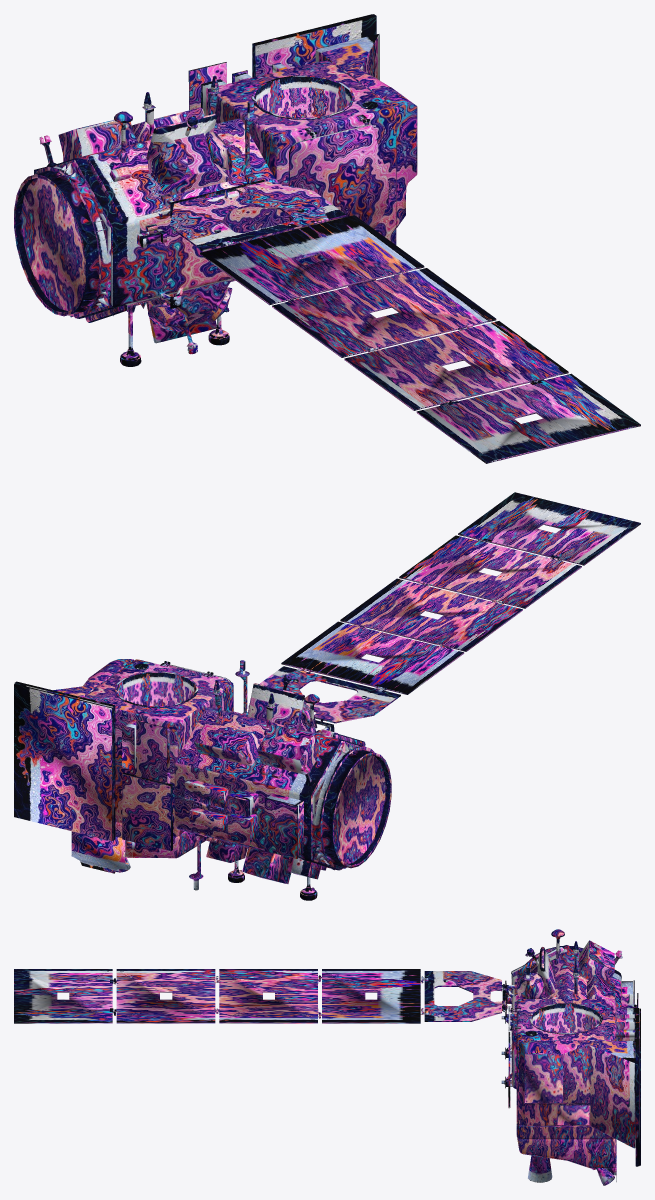
Rendered from ice-clouds-and-land-elevation-satellite-2-icesat-2-b.glb.
3 renders of one model, top to bottom at view 1: azimuth 30°, elevation 25°; view 2: azimuth 150°, elevation 25°; view 3: azimuth 270°, elevation 25°, orthographic. The views are drawn at different scales.
Parts seen in each view (by area): view 1: A; view 2: A; view 3: A.
Part boxes in pixels (<box>): A: <box>14,14,640,463</box>; A: <box>14,492,640,900</box>; A: <box>14,929,640,1185</box>.
Bounding box in the file's own units: 0.9898 × 0.6306 × 2.
15 materials, 15 textured.
